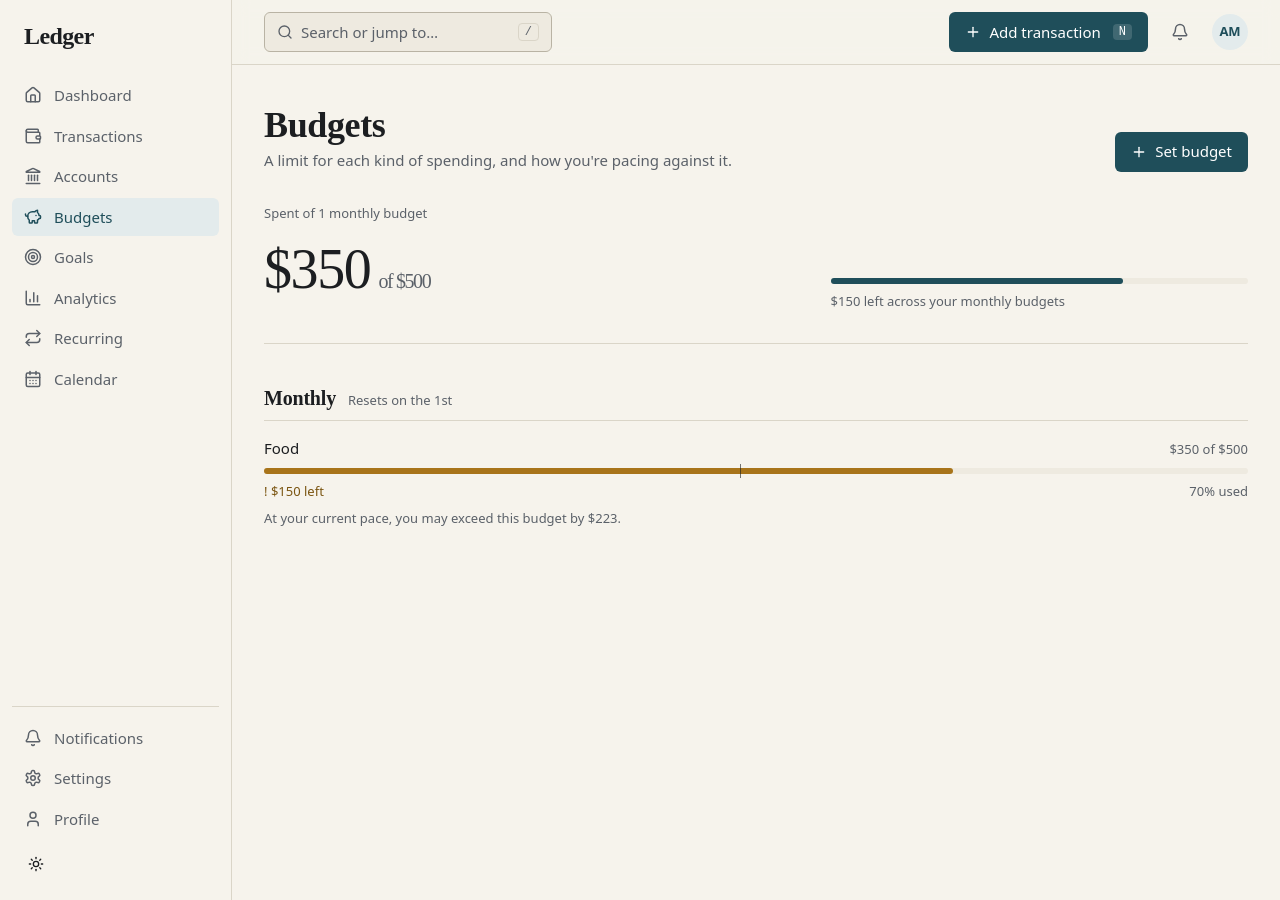
setting and editing a budget › removing a budget needs a second confirming click
What coordinates should you click on to do the following:
click the button with aria-label "Edit Food budget"
I would click on:
 (282, 448)
Its box is [252,421,1260,544].
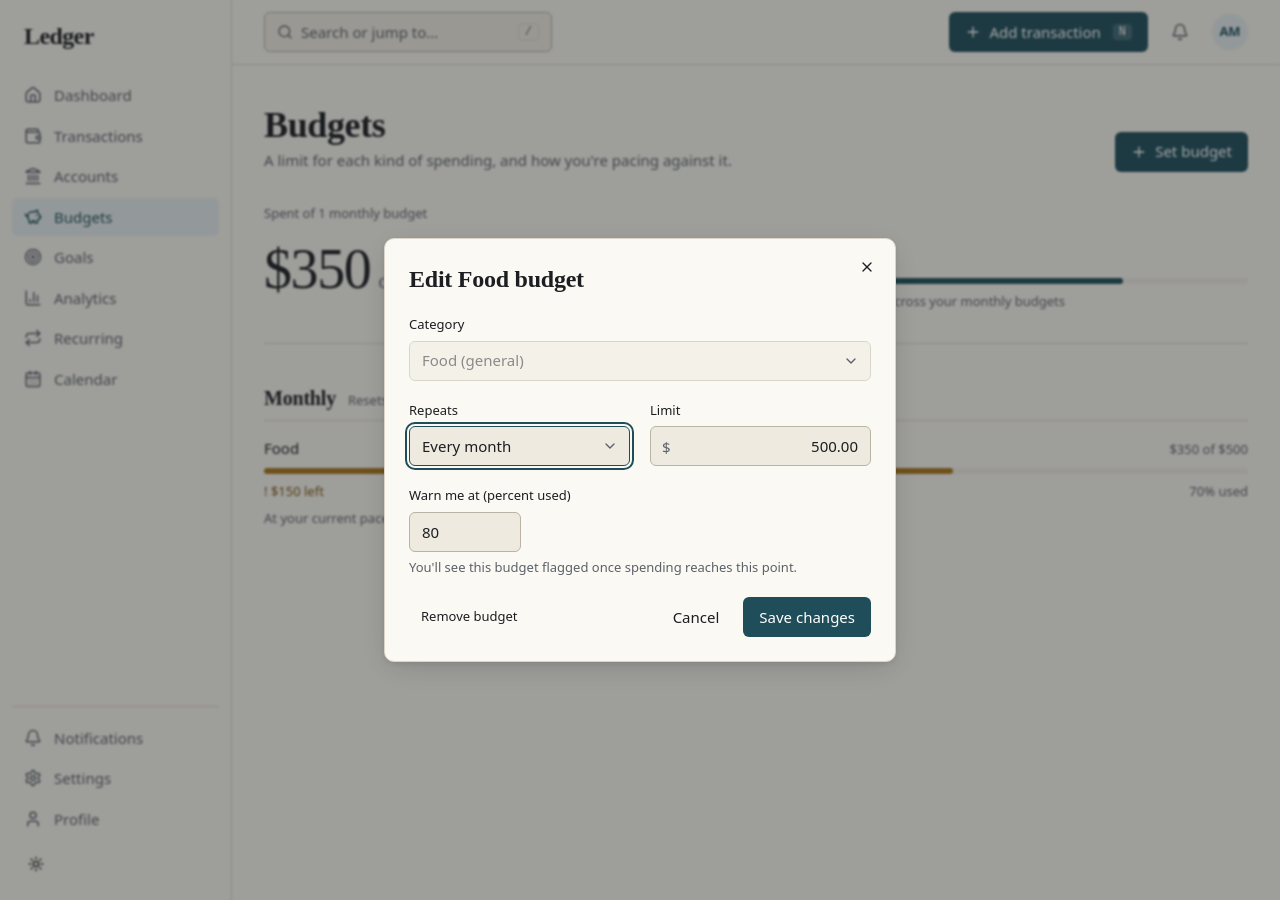
What coordinates should you click on to do the following:
click the button "Remove budget"
I would click on:
 (469, 617)
Its box is [409,601,530,633].
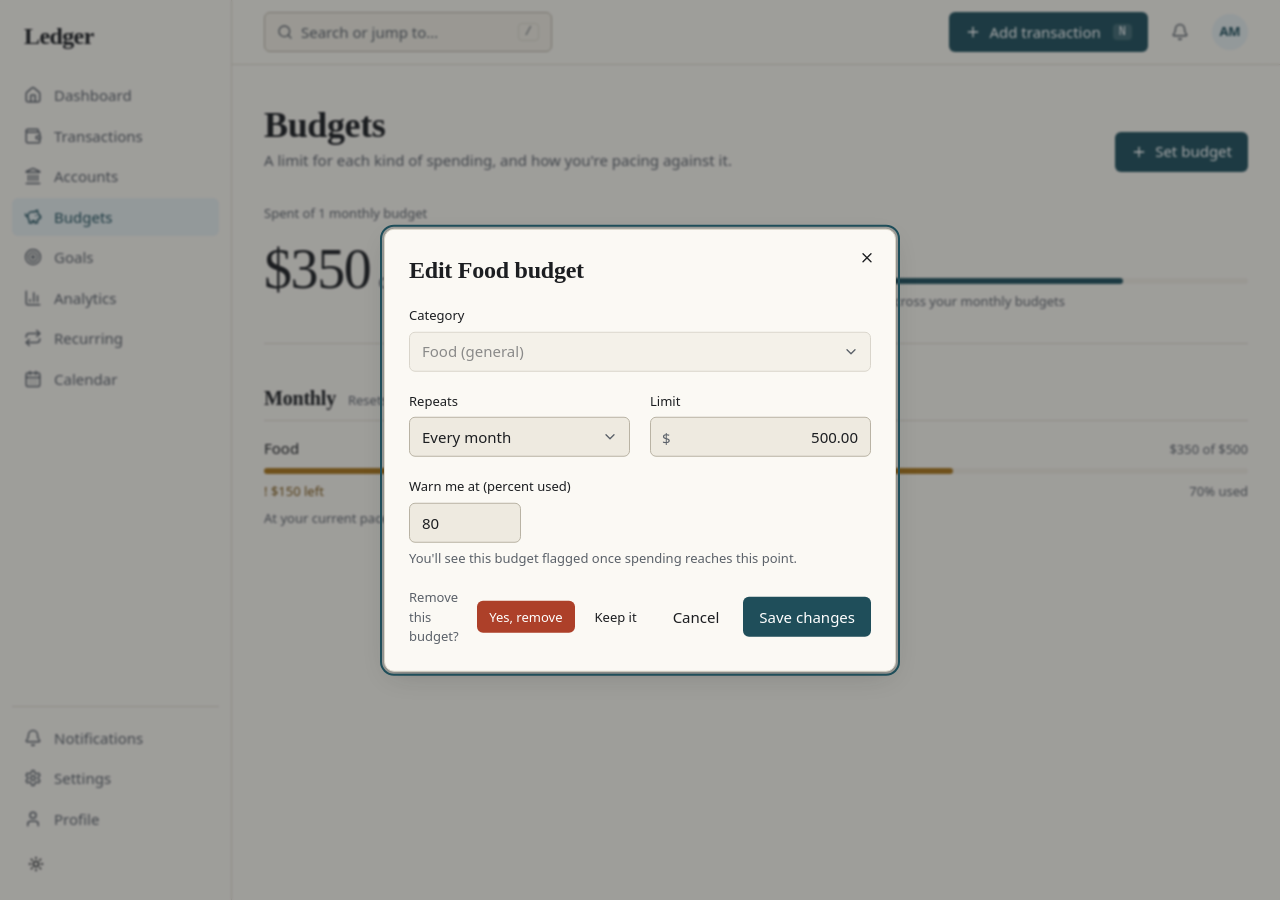
What coordinates should you click on to do the following:
click the button "Yes, remove"
I would click on:
 (526, 617)
Its box is [477,601,574,633].
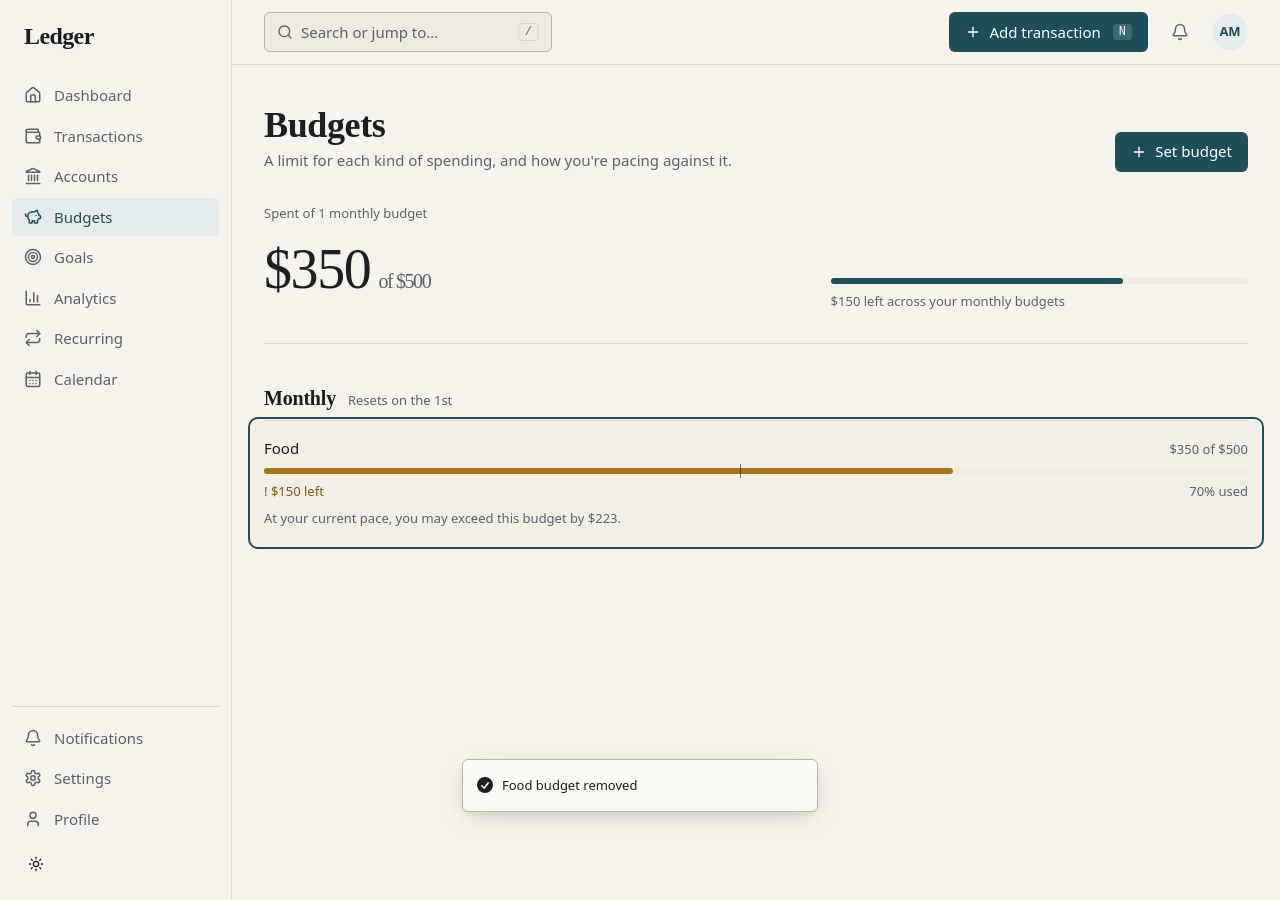
Expected: the text "Food budget removed" is shown, [502,776,637,795]
